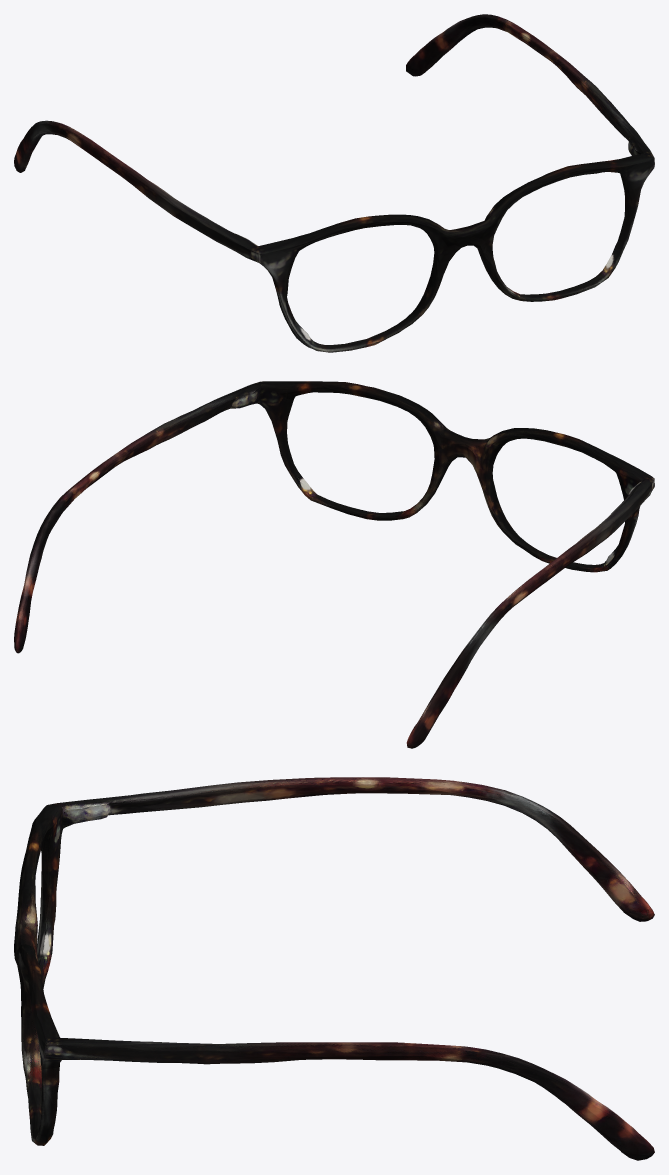
Rendered from glasses2.glb.
The picture shows the model from 3 angles, top to bottom: view 1: azimuth 30°, elevation 25°; view 2: azimuth 150°, elevation 25°; view 3: azimuth 270°, elevation 25°; orthographic projection. The views are drawn at different scales.
Visible parts, largest first — view 1: world; view 2: world; view 3: world.
Part boxes in pixels (box(x1,y1,x2,y2)): world: box(14, 14, 654, 352); world: box(14, 381, 654, 748); world: box(14, 777, 654, 1160).
Size of the model in its own units: 0.9977 by 0.2787 by 0.9982.
Materials: 1 (1 with a texture image).
